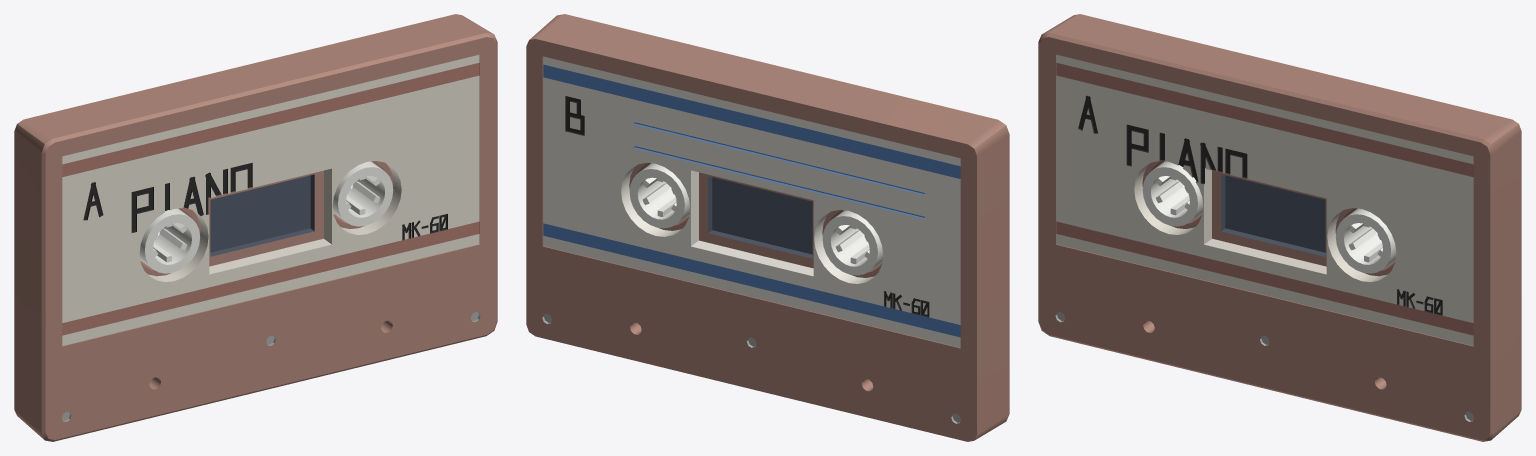
File: tape_birthday.glb
3 renders of one model, left to right at view 1: azimuth 30°, elevation 25°; view 2: azimuth 150°, elevation 25°; view 3: azimuth 330°, elevation 25°, orthographic.
Parts seen in each view (by area): view 1: shell, label_a, hub_l, hub_r; view 2: shell, label_b, hub_l, hub_r; view 3: shell, label_a, hub_l, hub_r.
Part boxes in pixels (bbox=[...]): shell: bbox=[14, 14, 497, 441]; label_a: bbox=[62, 54, 479, 345]; hub_l: bbox=[139, 208, 200, 273]; hub_r: bbox=[332, 161, 393, 226]; shell: bbox=[526, 14, 1009, 441]; label_b: bbox=[543, 56, 960, 347]; hub_l: bbox=[822, 210, 883, 275]; hub_r: bbox=[629, 163, 689, 228]; shell: bbox=[1038, 14, 1521, 441]; label_a: bbox=[1056, 54, 1473, 345]; hub_l: bbox=[1142, 161, 1203, 226]; hub_r: bbox=[1335, 208, 1396, 273].
Bounding box in the file's own units: 0.1004 × 0.0638 × 0.012.
